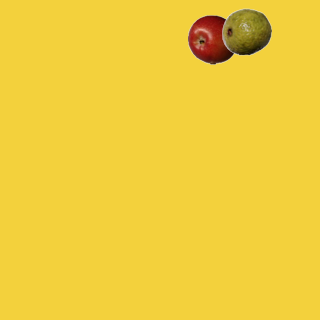Apple Braeburn: (187, 14, 237, 64)
Guava: (221, 6, 271, 56)
